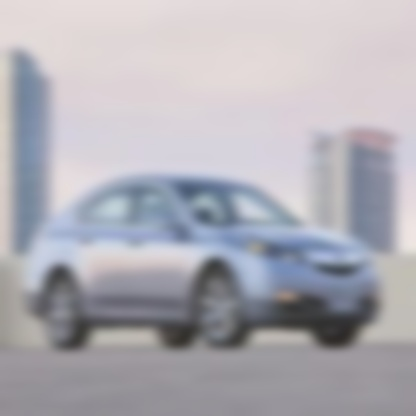Vehicle: (22, 172, 381, 362)
